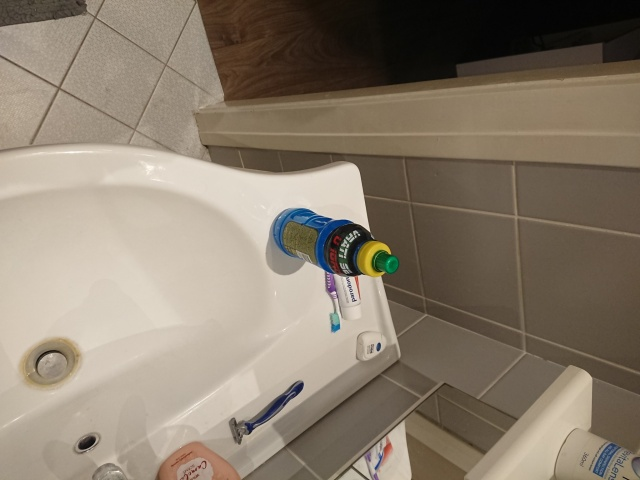Vindi Iso Sport Forest Strawberries 500mL: (271, 206, 400, 277)
